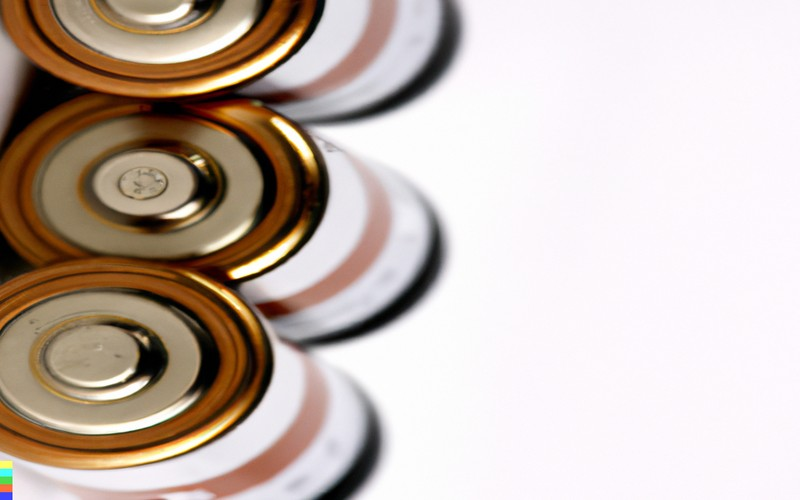Battery: (0, 0, 553, 324)
